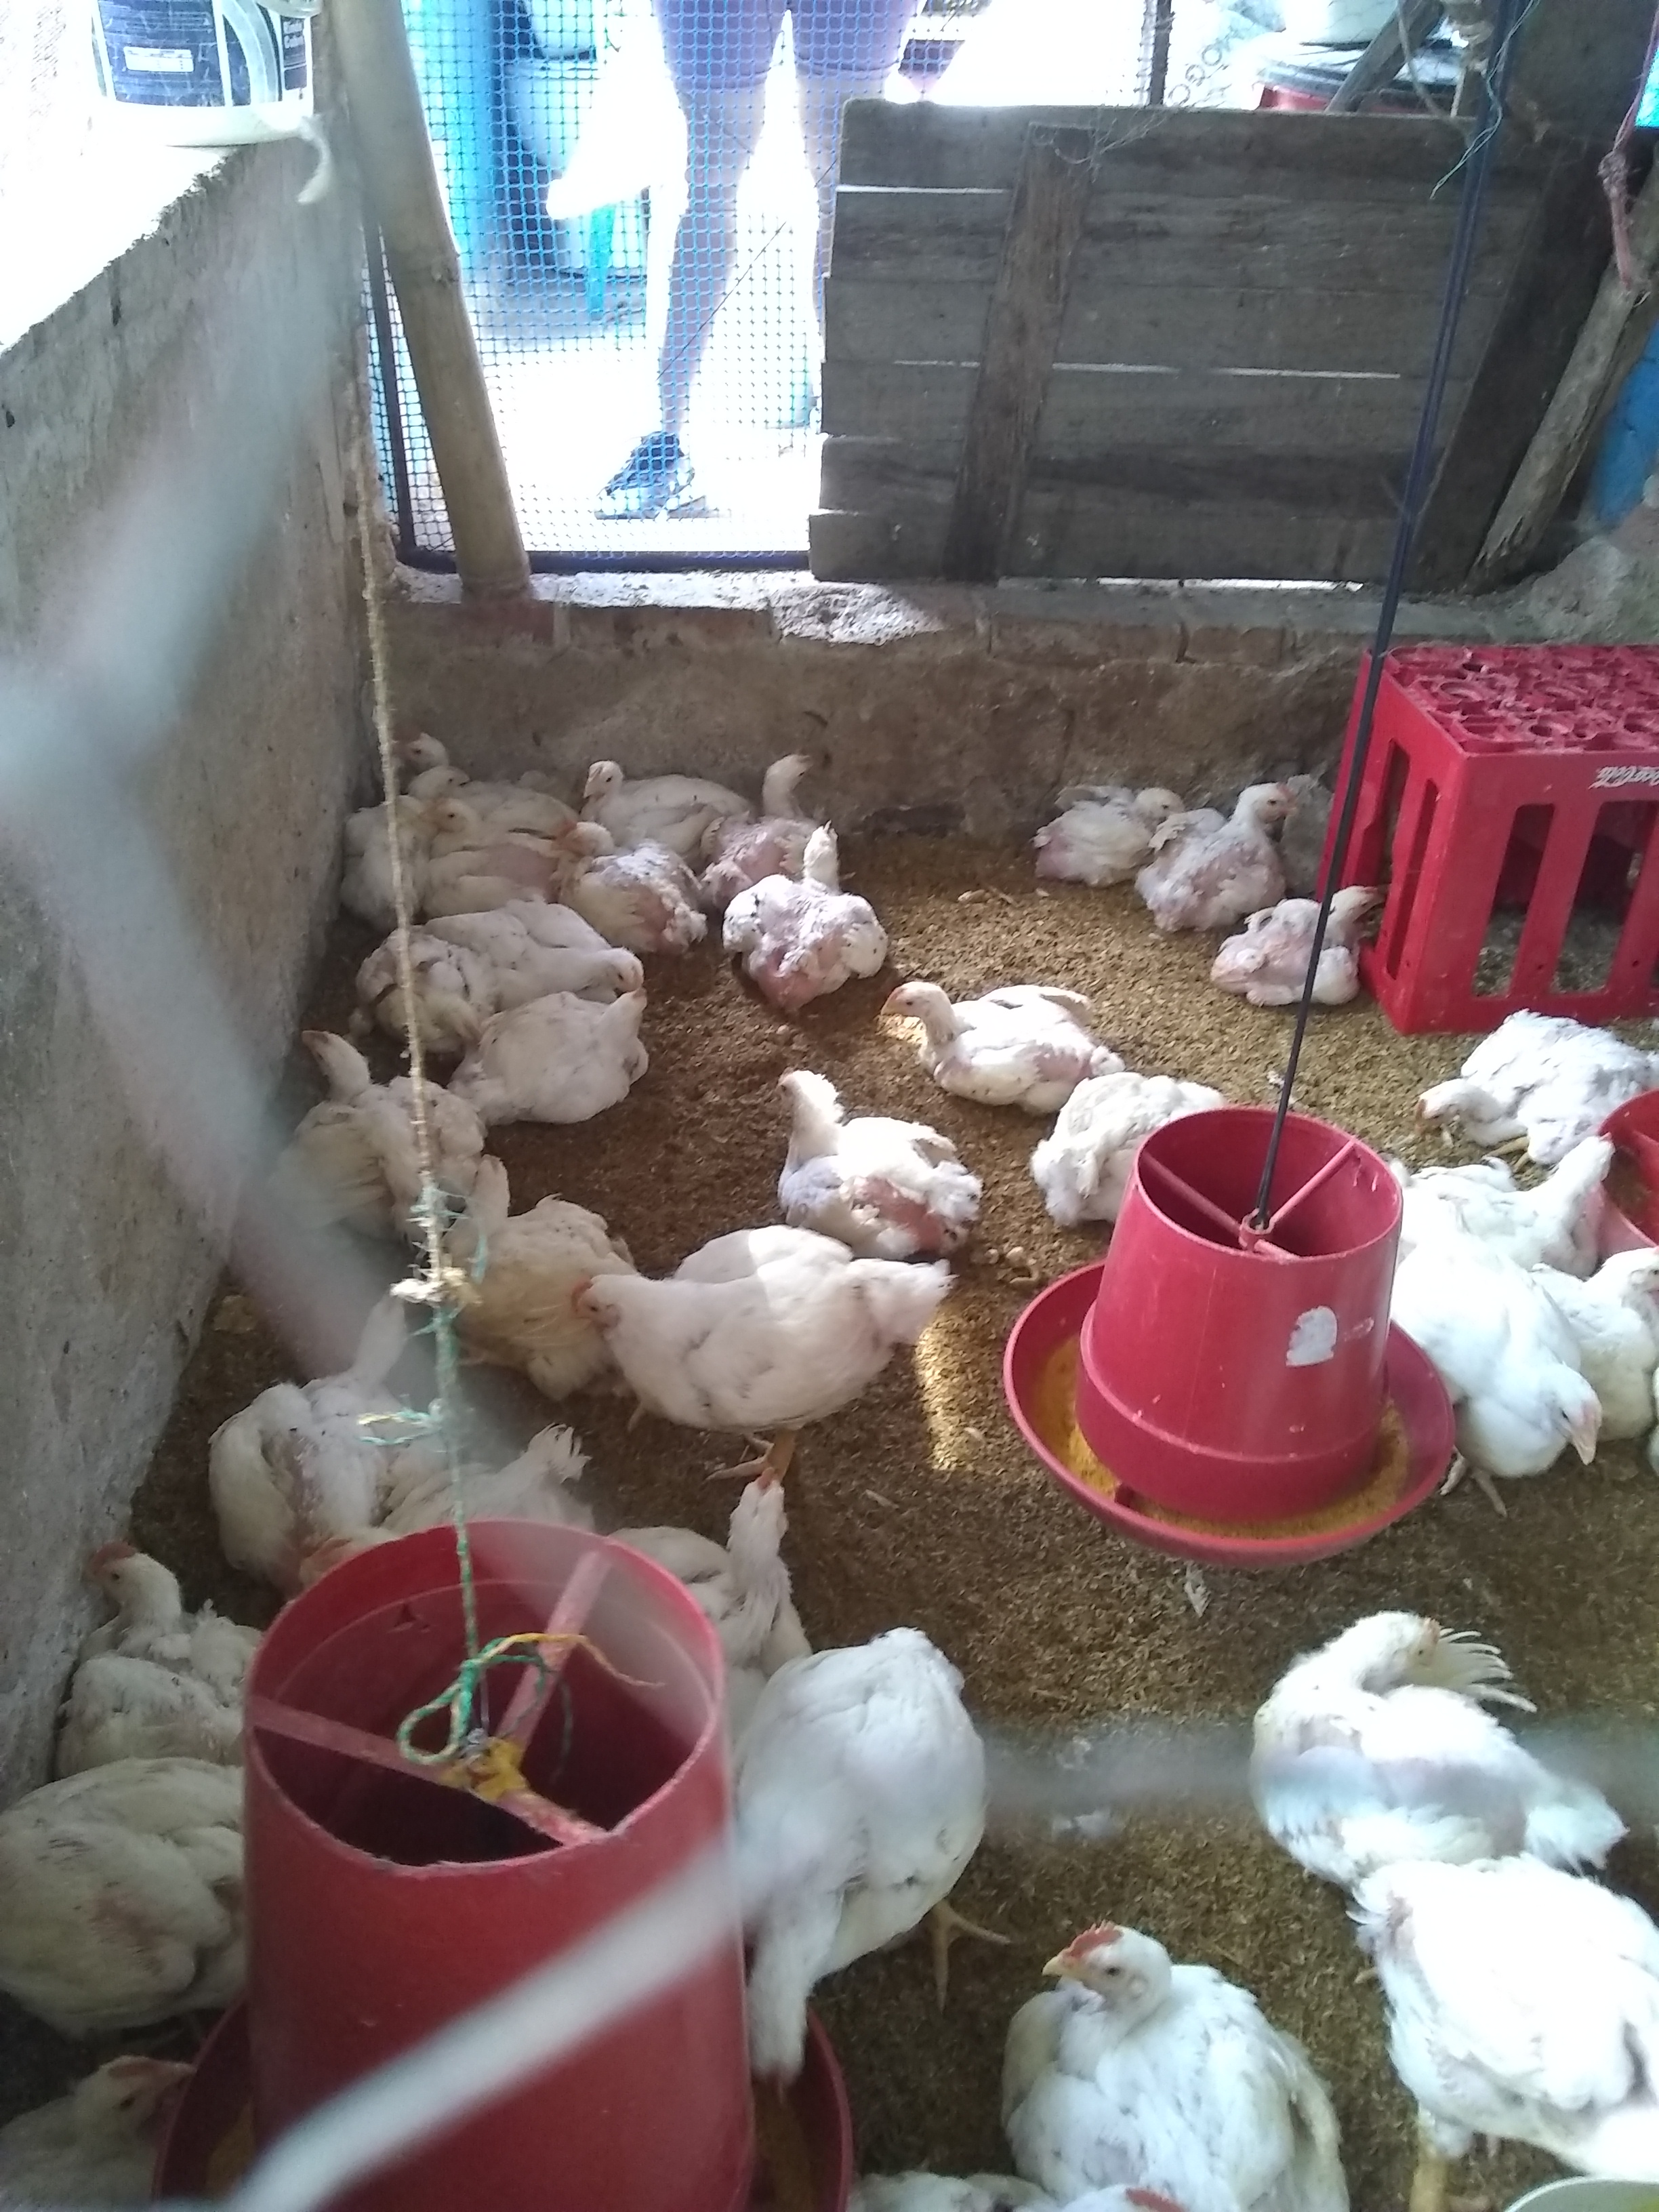Pollos: (1330, 1737, 1659, 2198), (718, 1622, 1028, 2095), (1223, 1557, 1615, 1843), (993, 1902, 1319, 2212), (0, 1754, 314, 2040), (566, 1237, 955, 1453), (42, 1517, 282, 1768), (1391, 1224, 1607, 1500), (610, 1435, 864, 1669), (207, 1284, 408, 1568), (1413, 942, 1659, 1139), (772, 1054, 1007, 1247), (441, 1148, 634, 1372), (389, 1404, 640, 1573), (0, 2010, 216, 2205), (1384, 1076, 1624, 1240), (1028, 1055, 1248, 1231), (310, 1019, 490, 1216), (866, 954, 1100, 1096), (1150, 752, 1319, 935), (732, 827, 894, 1014), (403, 888, 634, 1010), (481, 989, 655, 1137), (1227, 869, 1415, 1001), (1004, 761, 1178, 888), (561, 744, 739, 850), (838, 2132, 1053, 2212), (753, 733, 838, 852), (411, 728, 446, 772), (425, 791, 469, 822), (427, 758, 464, 792)
